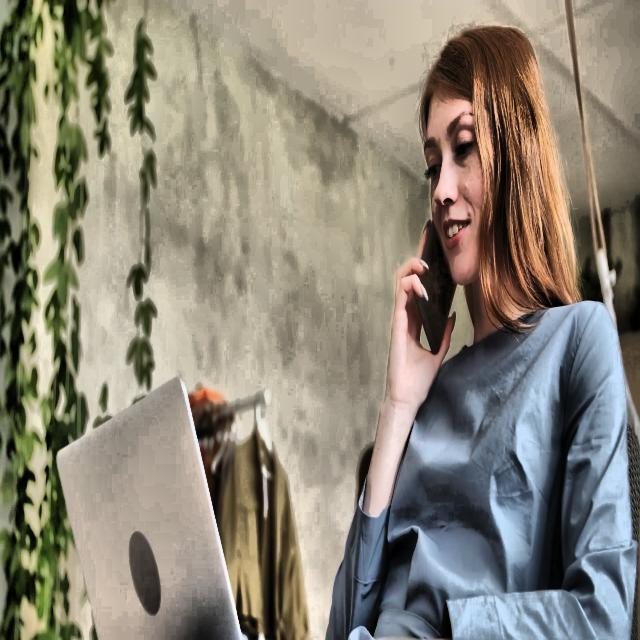Phone: (412, 216, 458, 356)
